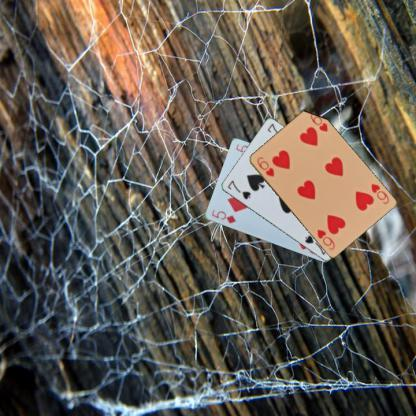5d: (208, 207, 237, 225)
6h: (254, 154, 276, 178), (368, 181, 390, 205)
7s: (225, 178, 252, 200)
